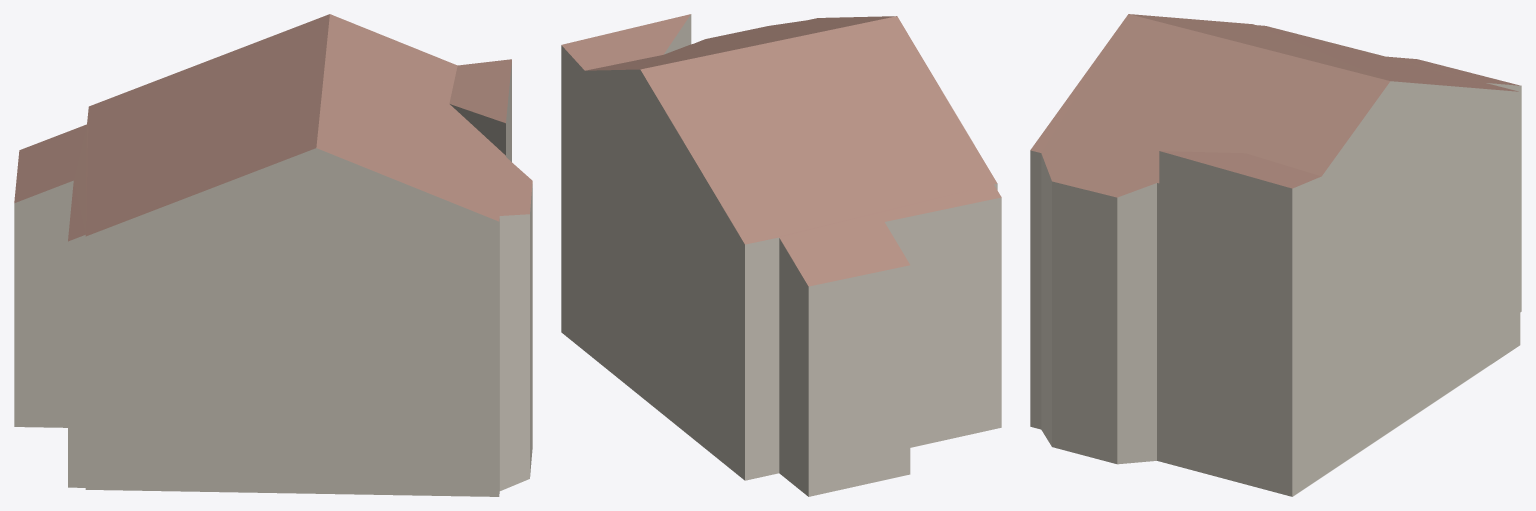
3 views of the same model, side by side, from view 1: azimuth 30°, elevation 25°; view 2: azimuth 150°, elevation 25°; view 3: azimuth 270°, elevation 25° (orthographic). The views are drawn at different scales.
Size of the model in its own units: 12.94 by 9.44 by 12.
